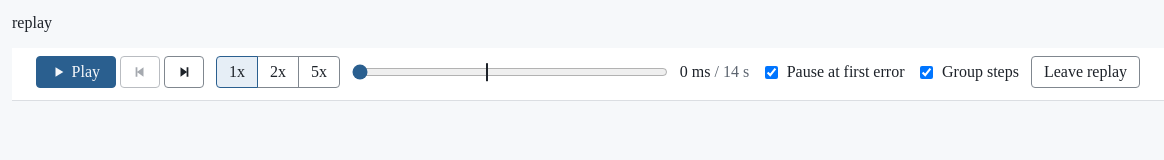
Test case: ReplayTransport (wide) › the gap note is never a live region, and says when playback paused at the first error
Click the button "Play".
click(76, 72)  # box [36,56,116,88]
Wait 30000 ms
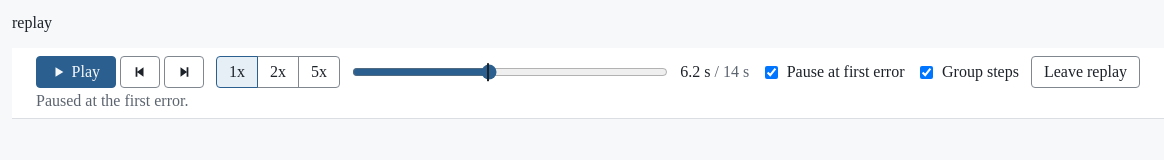
Expected: the text with test id "replay-gap" reads "Paused at the first error.", [36,92,188,109]
Expected: the slider holds "6", [352,64,668,80]
